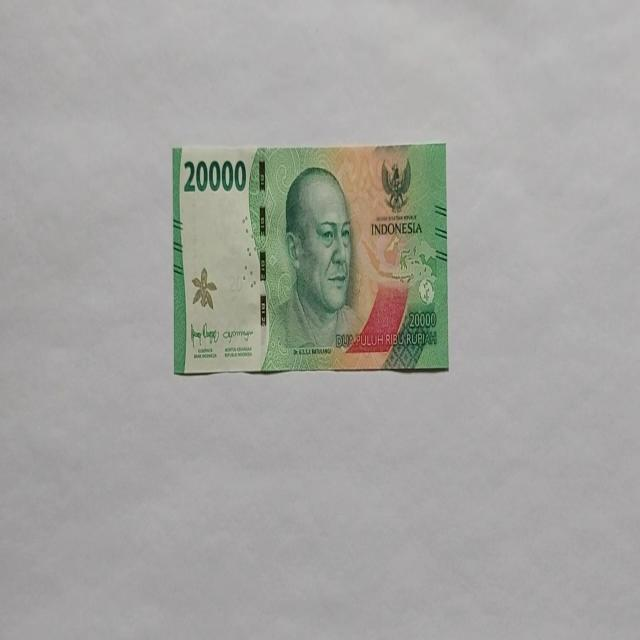dua puluh ribu rupiah: (172, 141, 448, 375), (268, 164, 366, 362)
